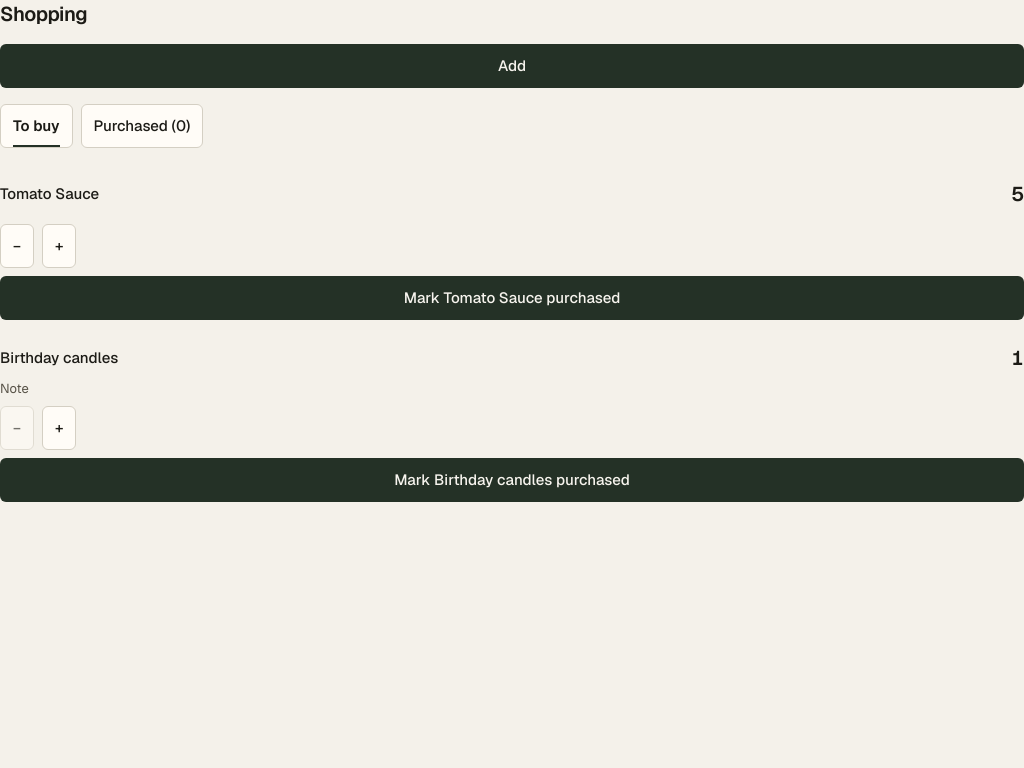
ShoppingOverviewScreen › keeps the add form open and shows a mapped error on failure
The image size is (1024, 768).
Expected: the heading "Tomato Sauce" is shown, [0,183,99,205]
Click the button "Add" at [512, 66], box [0,44,1023,88]
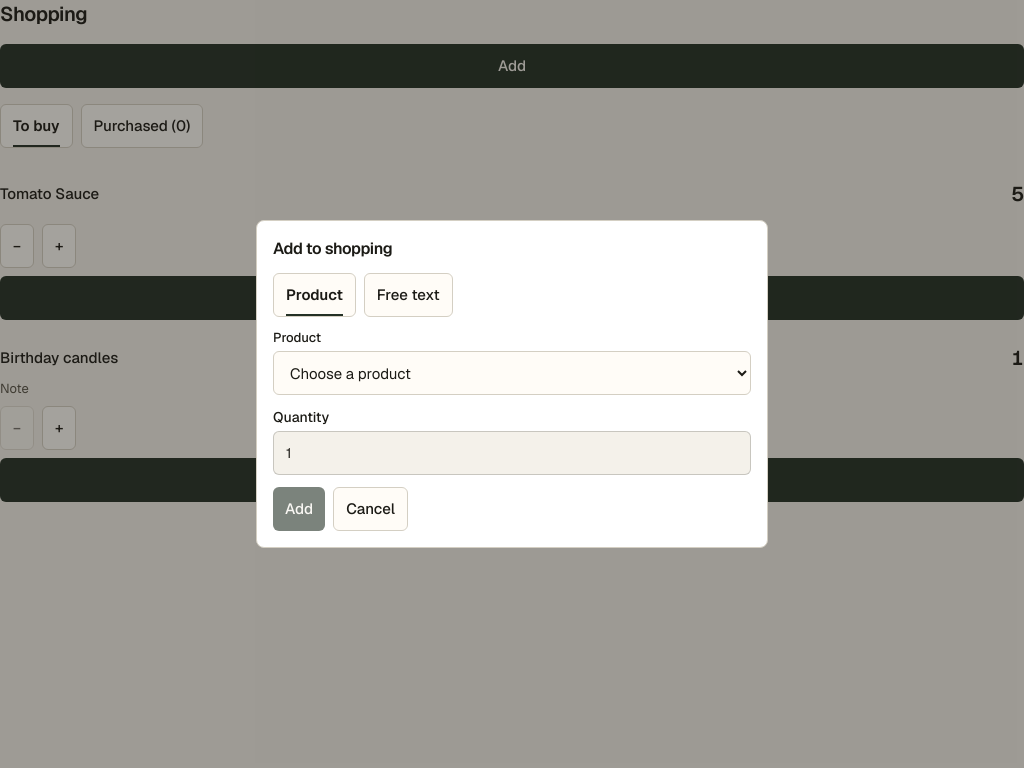
Select "Tomato Sauce" in the dropdown labelled "Product" at [512, 373], box [273,351,751,395]
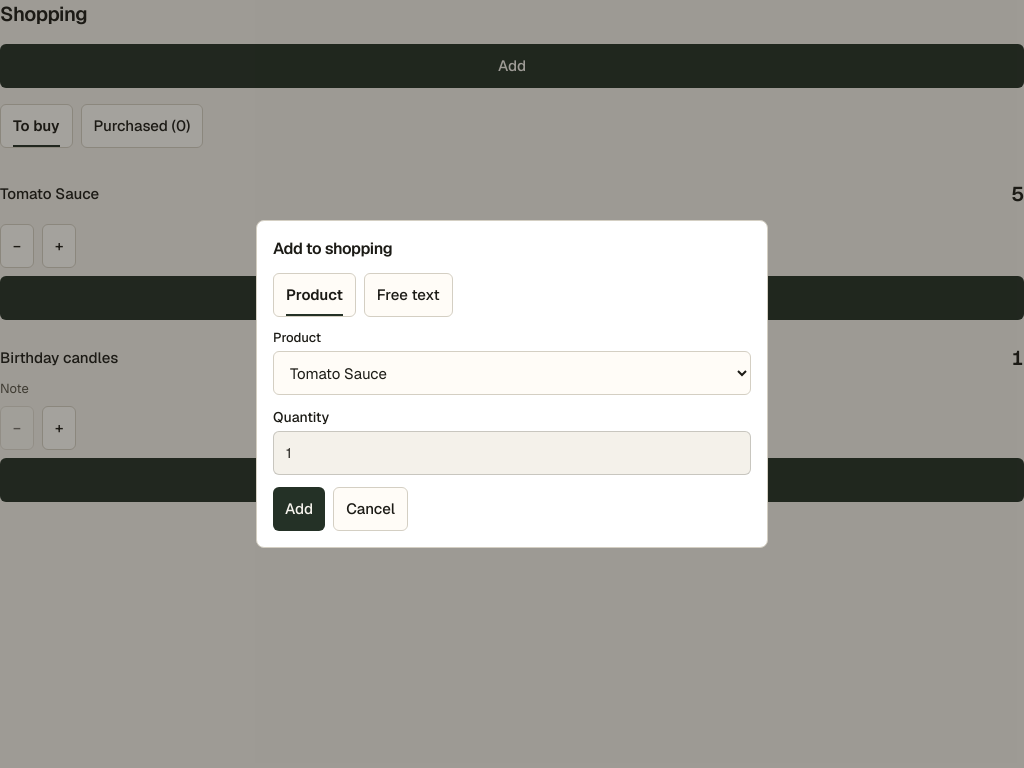
Replace the text in the field labelled "Quantity" with "2" at [512, 453], box [273,431,751,475]
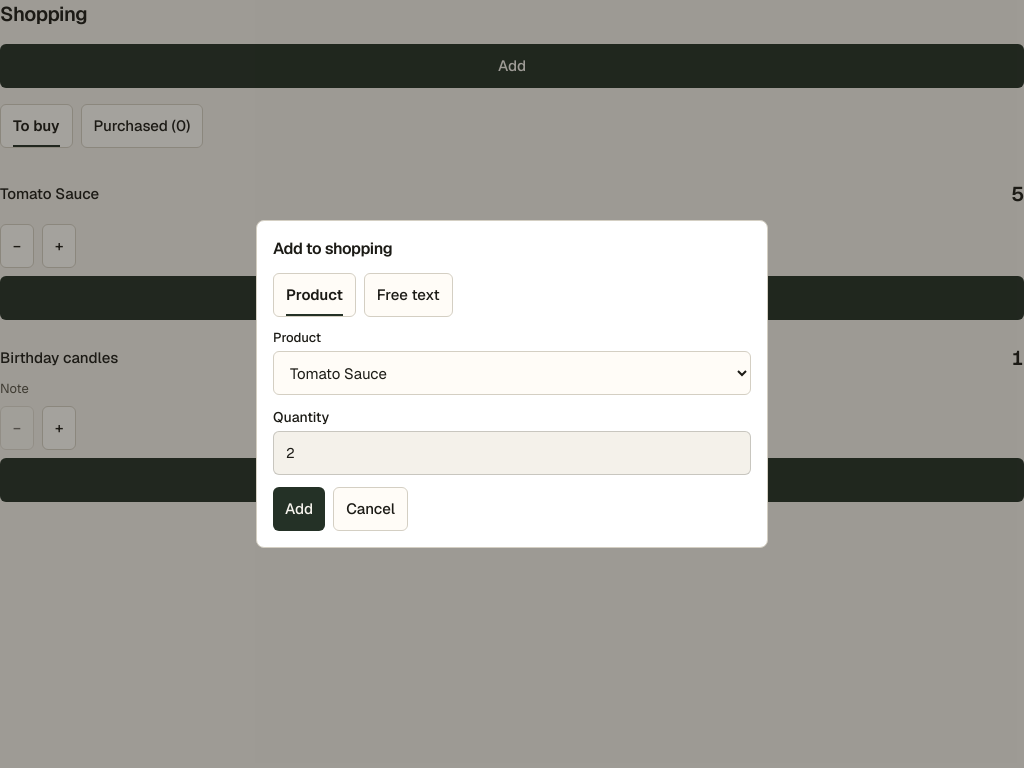
Submit the form "Add", box [273,273,751,531]
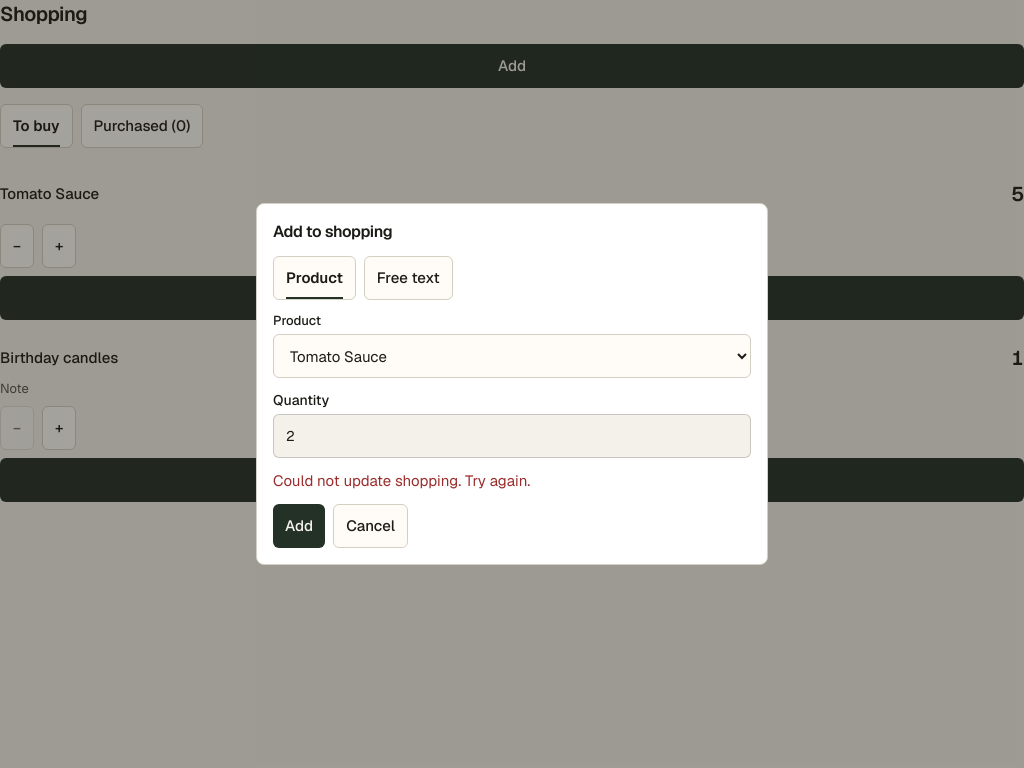
Expected: the dialog "Add to shopping" is shown, [256,203,768,565]
Expected: the text "Could not update shopping. Try again." is shown, [273,471,530,490]
